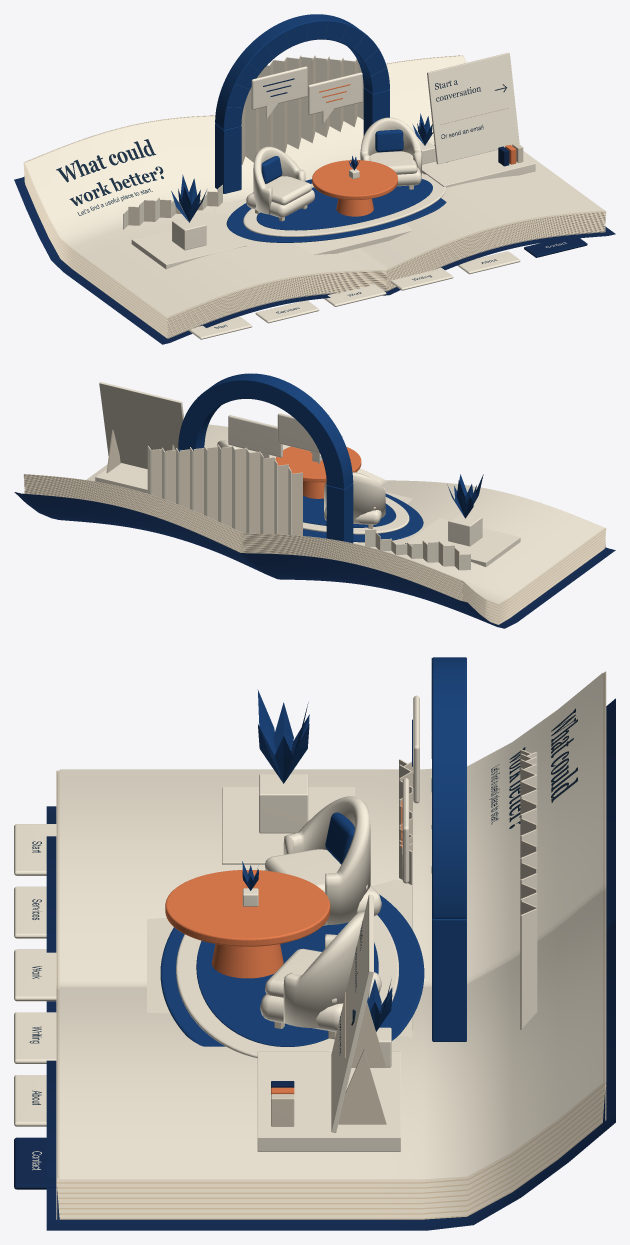
The model's file is contact-geometry.glb.
3 views of the same model, one above another, from view 1: azimuth 30°, elevation 25°; view 2: azimuth 150°, elevation 25°; view 3: azimuth 270°, elevation 25° (orthographic). The views are drawn at different scales.
Visible parts, largest first — view 1: Reading spread, Contact invitation, Open cobalt conversation arch, Cobalt lower cover, Cobalt rug center, Coral circular tabletop, Left plant stage, Right invitation stage, Cream paper rug rim, Cobalt conversation floor, Paper leaf 29, Listening bubble panel (+54 smaller); view 2: Reading spread, Cobalt lower cover, Open cobalt conversation arch, Contact invitation, Left plant stage, Reply bubble panel, Arch standing leg, Coral circular tabletop, Left cream paper chair continuous curved shell, Right invitation stage, Listening bubble panel, Room folded backdrop.008 (+67 smaller); view 3: Reading spread, Cobalt lower cover, Right invitation stage, Coral circular tabletop, Open cobalt conversation arch, Cobalt rug center, Cobalt conversation floor, Left cream paper chair continuous curved shell, Cream paper rug rim, Right cream paper chair continuous curved shell, Paper leaf 29, Left plant stage (+52 smaller).
Part boxes in pixels (left/top/right/bottom): Reading spread: left=25, top=56, right=604, bottom=317; Contact invitation: left=427, top=52, right=519, bottom=164; Open cobalt conversation arch: left=215, top=14, right=389, bottom=129; Cobalt lower cover: left=14, top=177, right=615, bottom=344; Cobalt rug center: left=256, top=179, right=432, bottom=230; Coral circular tabletop: left=312, top=160, right=397, bottom=199; Left plant stage: left=131, top=220, right=246, bottom=269; Right invitation stage: left=422, top=150, right=535, bottom=187; Cream paper rug rim: left=243, top=173, right=446, bottom=236; Cobalt conversation floor: left=226, top=179, right=446, bottom=242; Paper leaf 29: left=23, top=55, right=606, bottom=318; Listening bubble panel: left=251, top=66, right=307, bottom=109; Reading spread: left=25, top=424, right=604, bottom=603; Cobalt lower cover: left=14, top=492, right=615, bottom=628; Open cobalt conversation arch: left=178, top=373, right=353, bottom=488; Contact invitation: left=99, top=381, right=183, bottom=469; Left plant stage: left=405, top=517, right=520, bottom=566; Reply bubble panel: left=228, top=415, right=282, bottom=457; Arch standing leg: left=326, top=483, right=353, bottom=543; Coral circular tabletop: left=275, top=446, right=361, bottom=482; Left cream paper chair continuous curved shell: left=324, top=472, right=385, bottom=523; Right invitation stage: left=95, top=463, right=147, bottom=493; Listening bubble panel: left=277, top=413, right=319, bottom=453; Room folded backdrop.008: left=235, top=448, right=246, bottom=533; Reading spread: left=59, top=673, right=602, bottom=1179; Cobalt lower cover: left=46, top=698, right=615, bottom=1230; Right invitation stage: left=257, top=1051, right=400, bottom=1151; Coral circular tabletop: left=165, top=870, right=330, bottom=946; Open cobalt conversation arch: left=432, top=657, right=466, bottom=918; Cobalt rug center: left=196, top=922, right=378, bottom=1046; Cobalt conversation floor: left=160, top=894, right=424, bottom=1046; Left cream paper chair continuous curved shell: left=283, top=796, right=370, bottom=924; Cream paper rug rim: left=176, top=915, right=398, bottom=1058; Right cream paper chair continuous curved shell: left=283, top=912, right=369, bottom=1027; Paper leaf 29: left=56, top=671, right=605, bottom=1182; Left plant stage: left=222, top=787, right=354, bottom=864.
Size of the model in its own units: 10.35 by 4.24 by 6.2.
